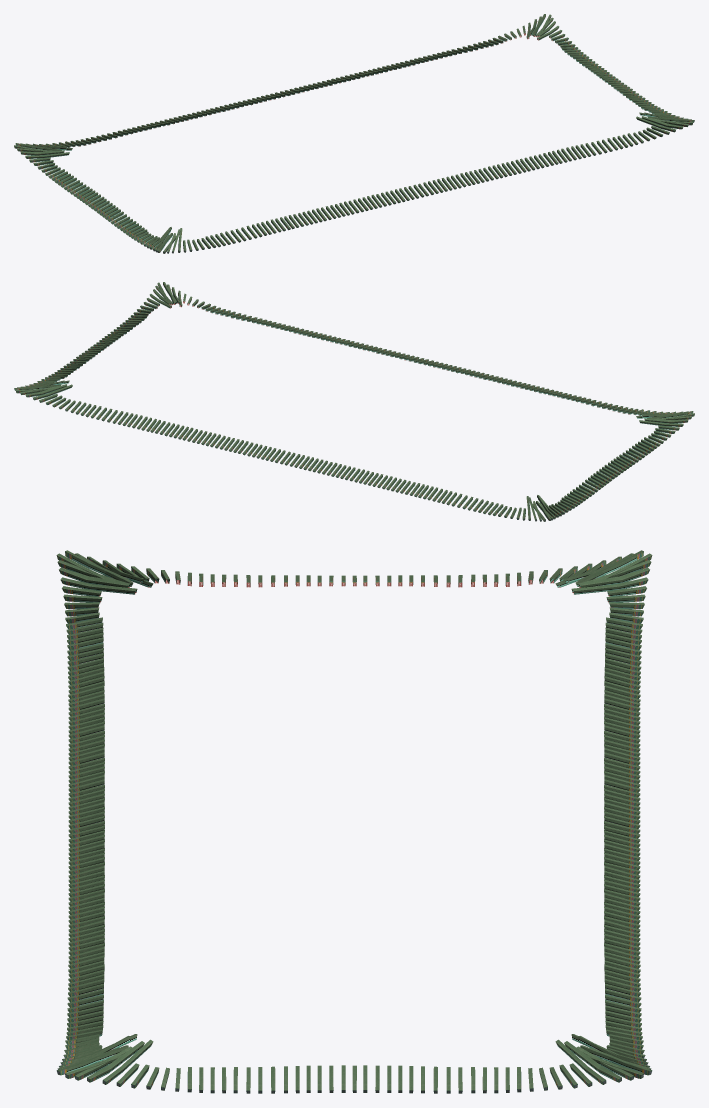
The model's file is SM_Buyeon05C.fbx.
3 renders of one model, top to bottom at view 1: azimuth 30°, elevation 25°; view 2: azimuth 150°, elevation 25°; view 3: azimuth 270°, elevation 25°, orthographic. The views are drawn at different scales.
Visible parts, largest first — view 1: SM_Buyeon05C; view 2: SM_Buyeon05C; view 3: SM_Buyeon05C.
Part boxes in pixels (x1,y1,x2,y2): SM_Buyeon05C: (14, 14, 694, 253); SM_Buyeon05C: (14, 282, 694, 521); SM_Buyeon05C: (56, 550, 652, 1093).
Size of the model in its own units: 3226 by 1548 by 78.07.
